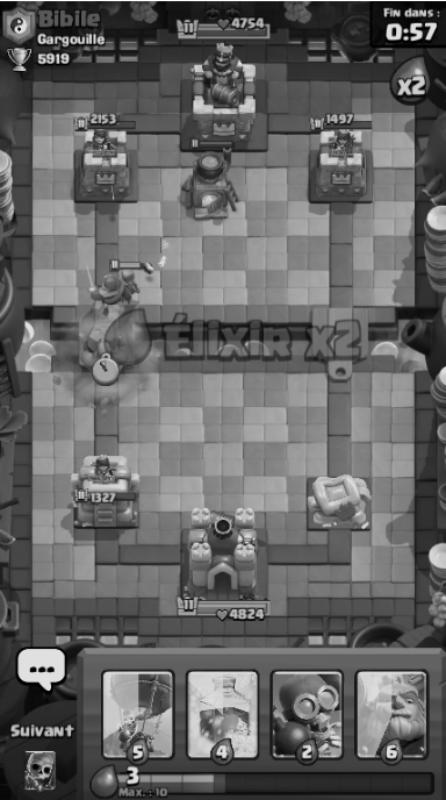chevalier: (74, 256, 126, 316)
valkyrie: (114, 246, 146, 302)
